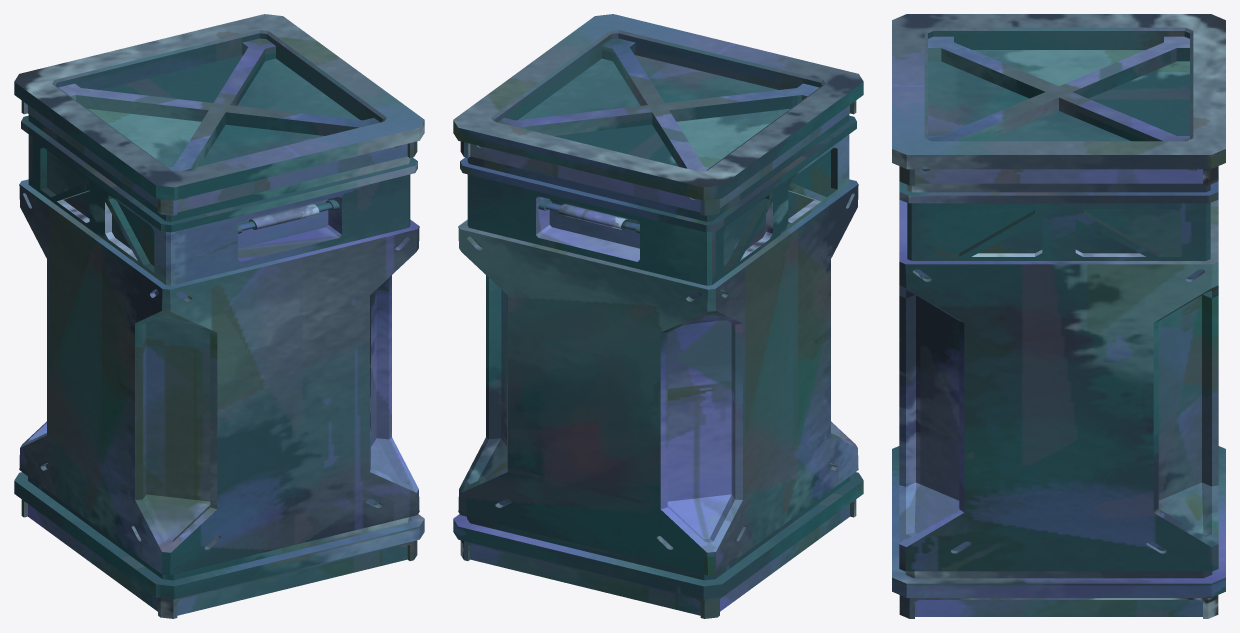
File: LO_candy_compartment.glb
3 views of the same model, side by side, from view 1: azimuth 30°, elevation 25°; view 2: azimuth 150°, elevation 25°; view 3: azimuth 270°, elevation 25° (orthographic). The views are drawn at different scales.
Visible parts, largest first — view 1: Box_A, box_A_lid; view 2: Box_A, box_A_lid; view 3: Box_A, box_A_lid.
Boxes of the visible parts, left/top/right/bottom form: Box_A: left=14, top=100, right=424, bottom=618; box_A_lid: left=14, top=14, right=424, bottom=200; Box_A: left=453, top=100, right=863, bottom=618; box_A_lid: left=453, top=14, right=863, bottom=200; Box_A: left=892, top=166, right=1225, bottom=618; box_A_lid: left=892, top=14, right=1225, bottom=169.
Size of the model in its own units: 0.5198 by 0.8026 by 0.5197.
5 materials, 5 textured.
